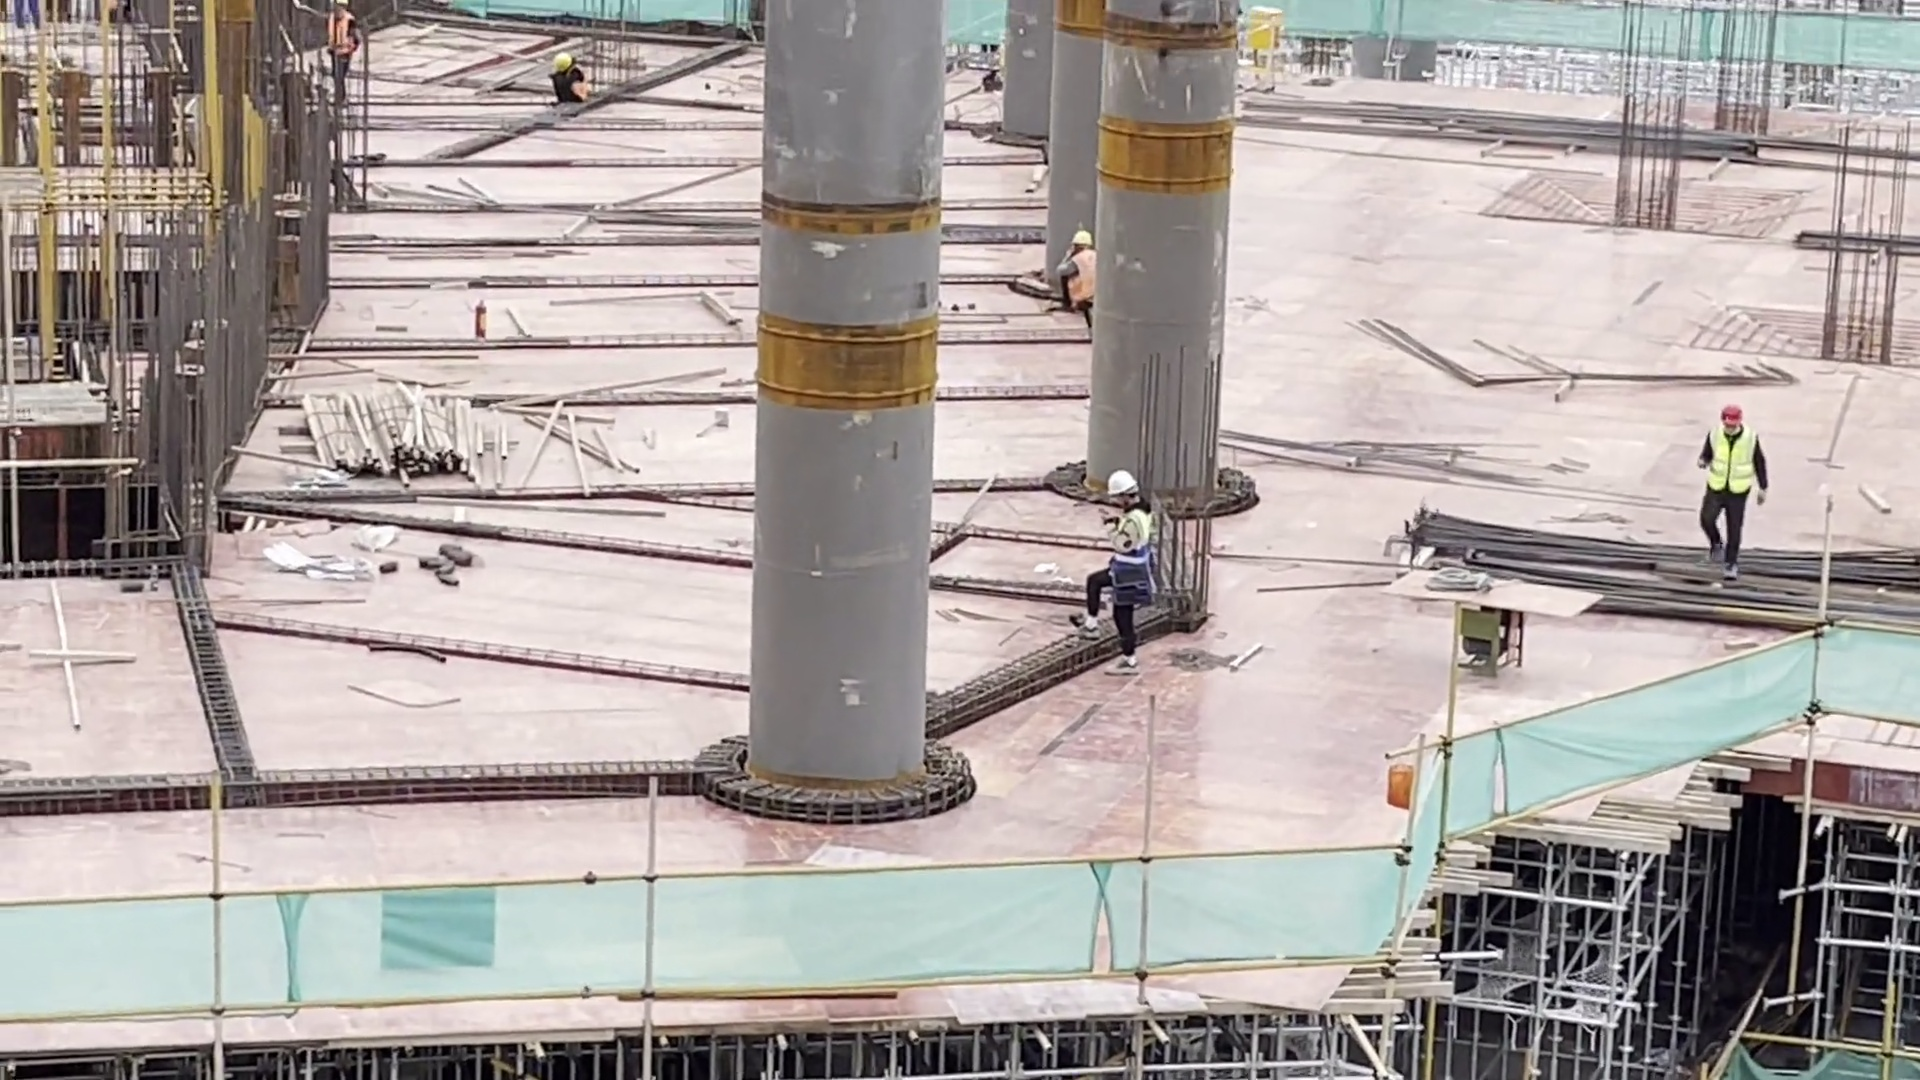helmet: (1068, 223, 1099, 253), (1103, 472, 1141, 495), (546, 55, 585, 72), (1720, 401, 1745, 424)
person: (1086, 464, 1156, 679), (1696, 395, 1771, 585), (1039, 205, 1105, 331), (311, 1, 363, 109), (535, 44, 601, 109)
vest: (1109, 514, 1156, 591), (1709, 427, 1754, 496), (1068, 255, 1100, 312), (326, 12, 354, 59)
